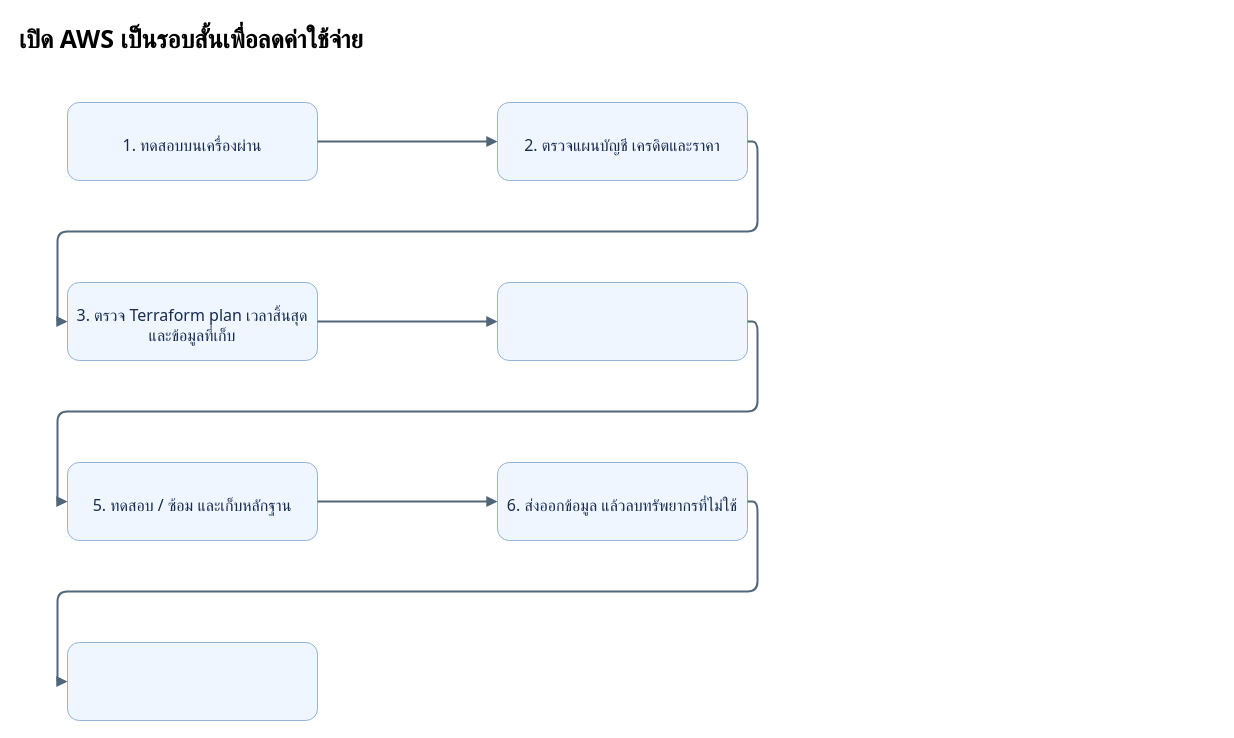
The diagram is 1234 pixels wide and 738 high, and some of its shapes have lost their labels. The shapes that lost their labels are listed below. From the top down, each one's centre as x and y in pixels, then its label:
point (622, 321): 4. สร้างเฉพาะระบบที่ต้องใช้
point (192, 681): 7. ตรวจของคงเหลือ และยอดใช้บริการ
